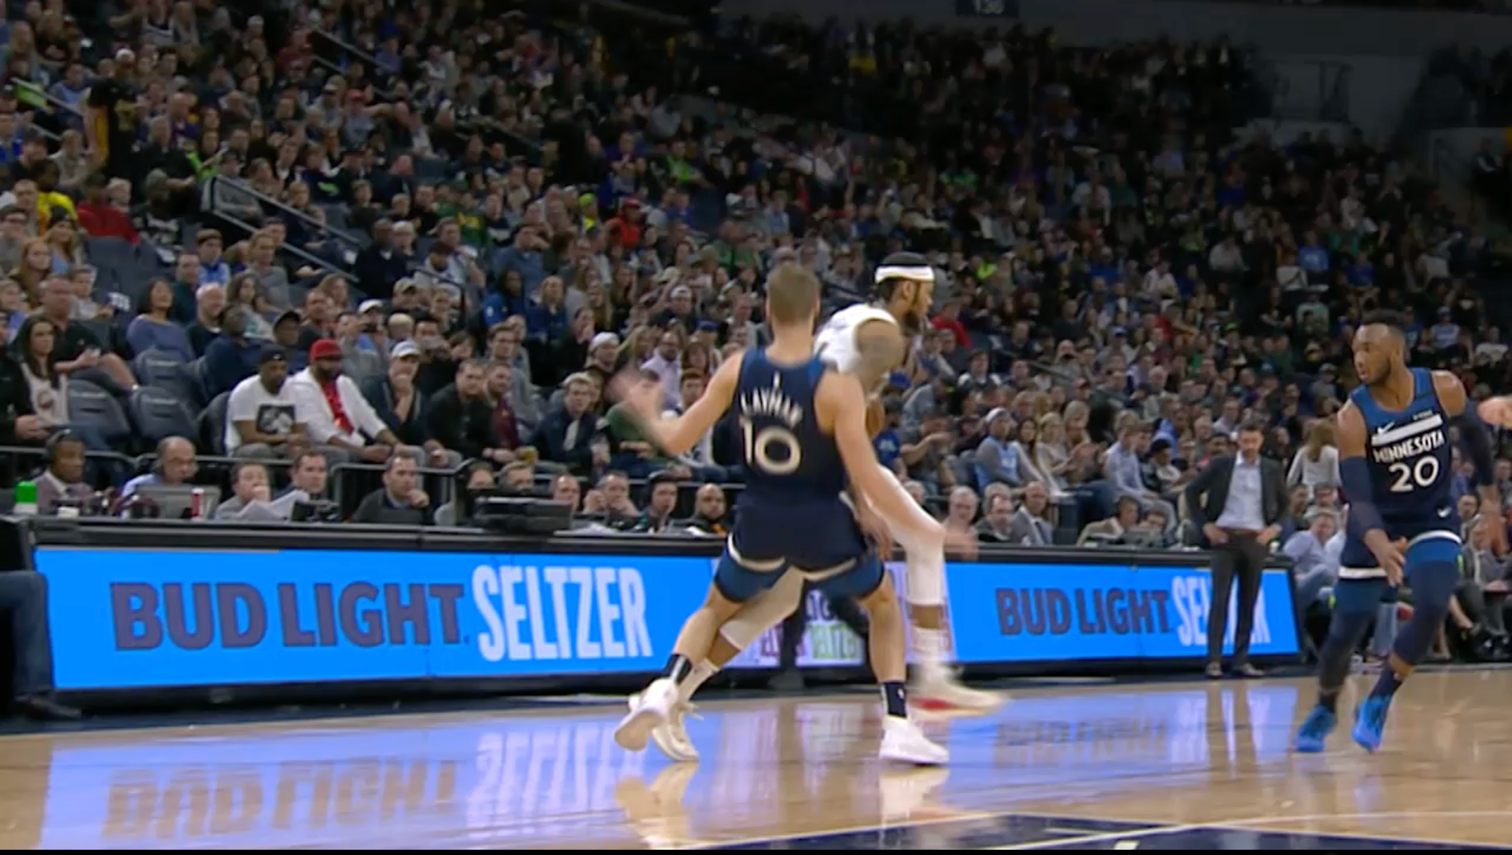Foul: (709, 251, 992, 762)
